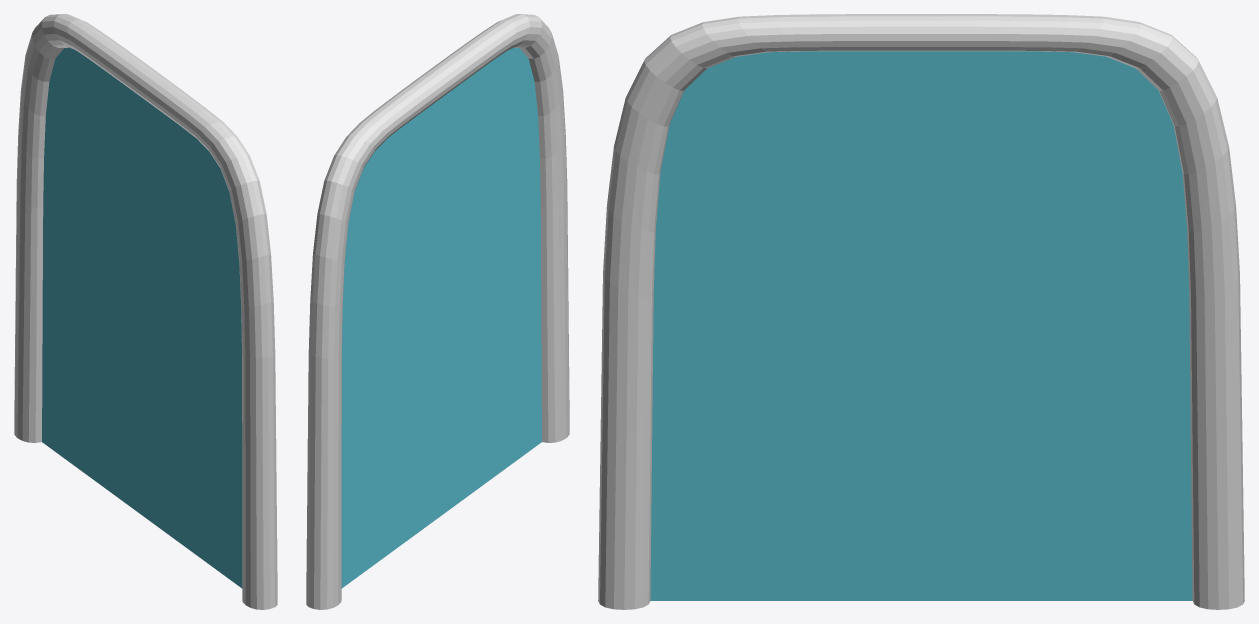
File: arch.fbx
3 views of the same model, side by side, from view 1: azimuth 30°, elevation 25°; view 2: azimuth 150°, elevation 25°; view 3: azimuth 270°, elevation 25° (orthographic). The views are drawn at different scales.
Parts seen in each view (by area): view 1: SM_Arch; view 2: SM_Arch; view 3: SM_Arch.
Part boxes in pixels (bbox=[...]): SM_Arch: bbox=[14, 14, 277, 609]; SM_Arch: bbox=[306, 14, 569, 609]; SM_Arch: bbox=[598, 14, 1244, 609].
Bounding box in the file's own units: 39.5 × 588 × 590.
